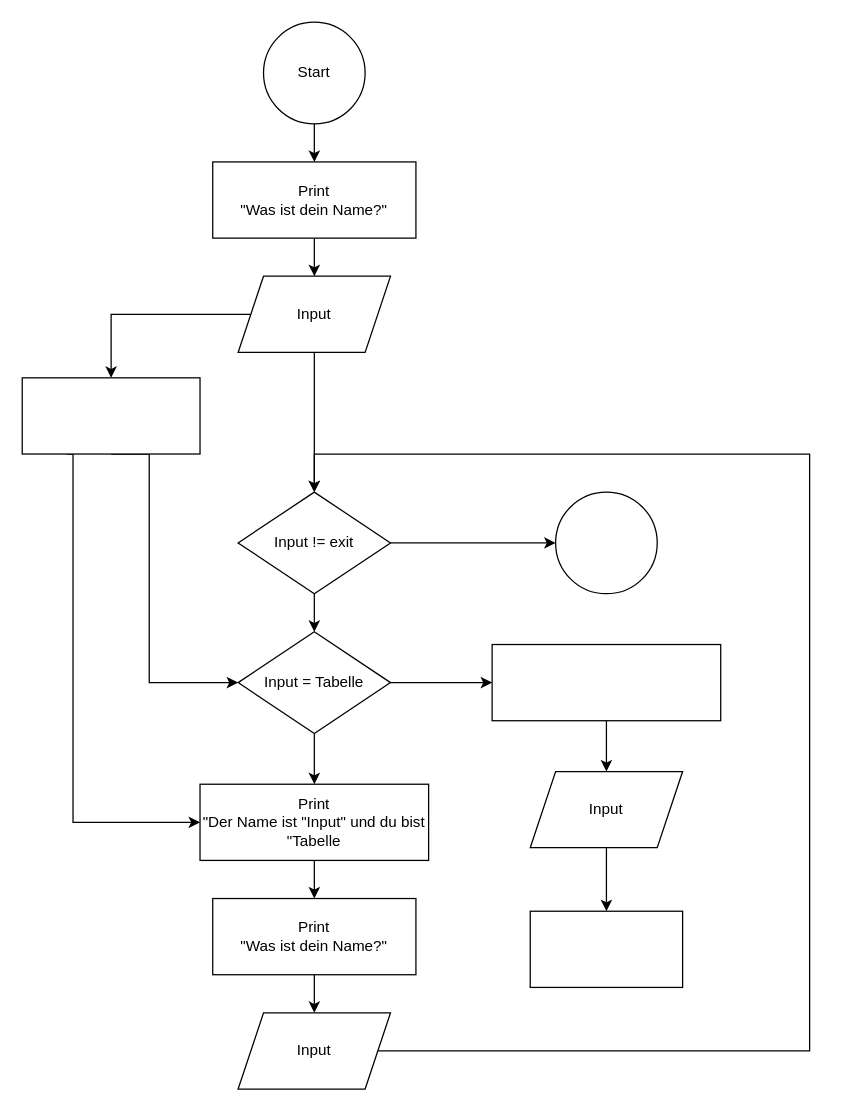
The diagram is 842 pixels wide and 1111 high, and some of its shapes have lost their labels. Each missing label, with the centre of its shape:
Auslesen der Tabelle: (x=110, y=415)
Eintrag in Tabelle: (x=606, y=948)
End: (x=605, y=542)
Print "Dich gibts noch nicht. Wie alt bist du?": (x=606, y=682)
